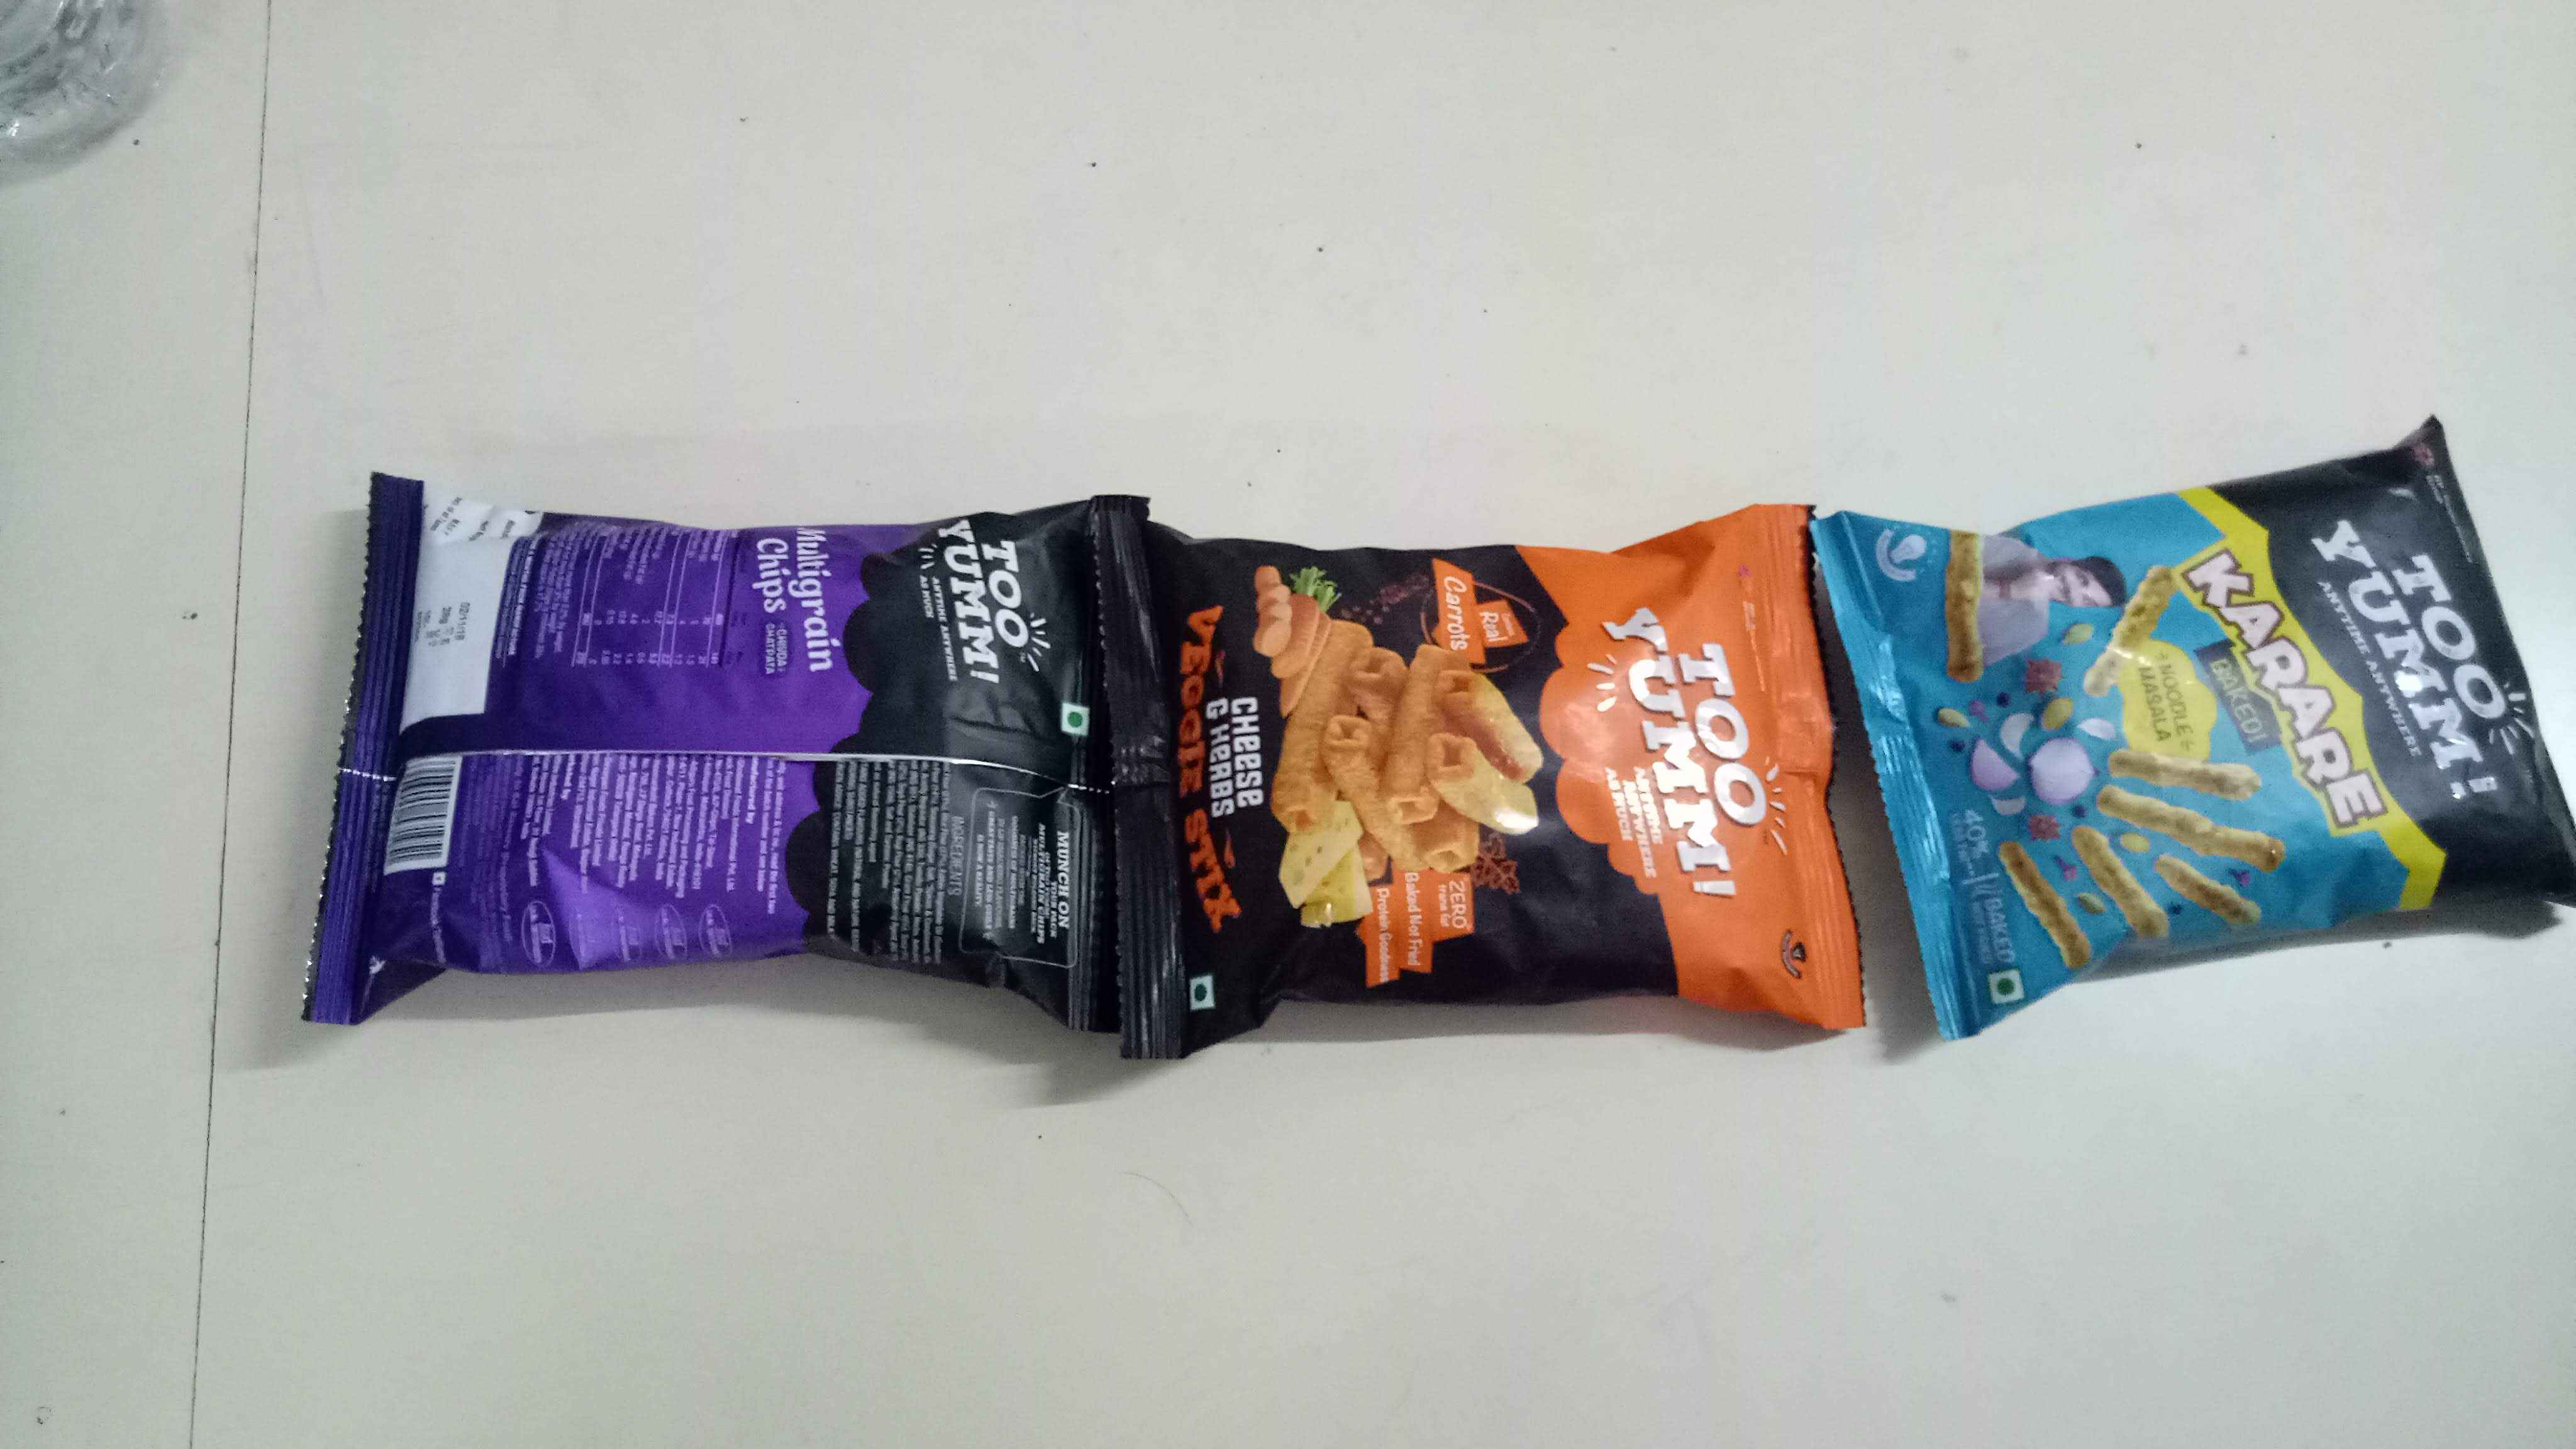tooyumm: (2300, 501, 2558, 819), (1594, 579, 1799, 920), (931, 517, 1058, 702)
